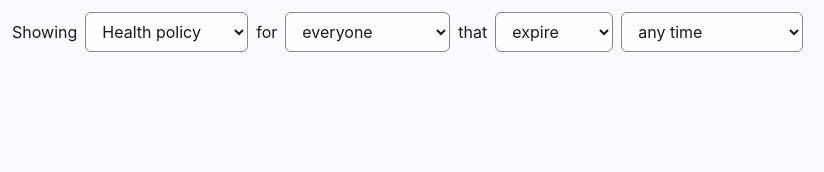
Test: the adjustable sentence › the custom range › is sent again, and the note goes, once the dates are in order
Step 1. Select "a custom range" in the dropdown named "When" → (712, 32), box [621,12,803,52]
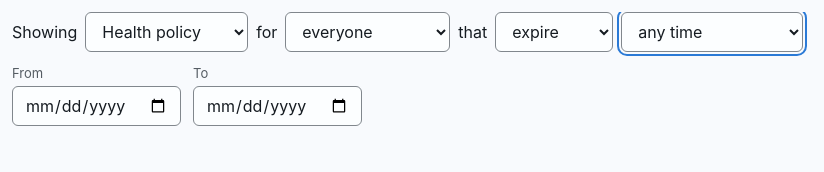
Step 2. Type "2027-02-01" into the date field labelled "From" → (96, 106), box [12,86,181,126]
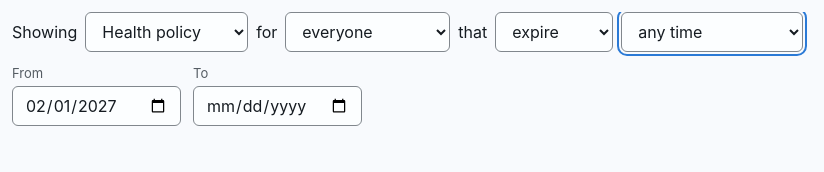
Step 3. Type "2027-01-01" into the date field labelled "To" → (278, 106), box [193,86,362,126]
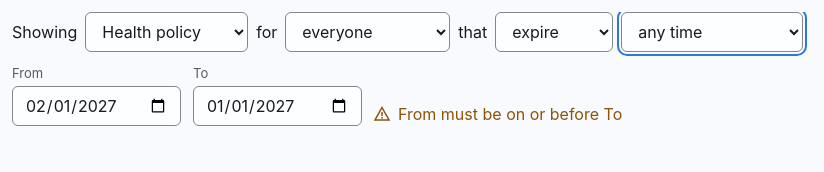
Step 4. Type "2027-03-01" into the date field labelled "To" → (278, 106), box [193,86,362,126]
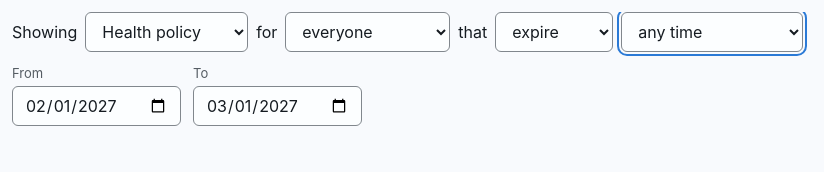
Now the text "From must be on or before To" is gone
